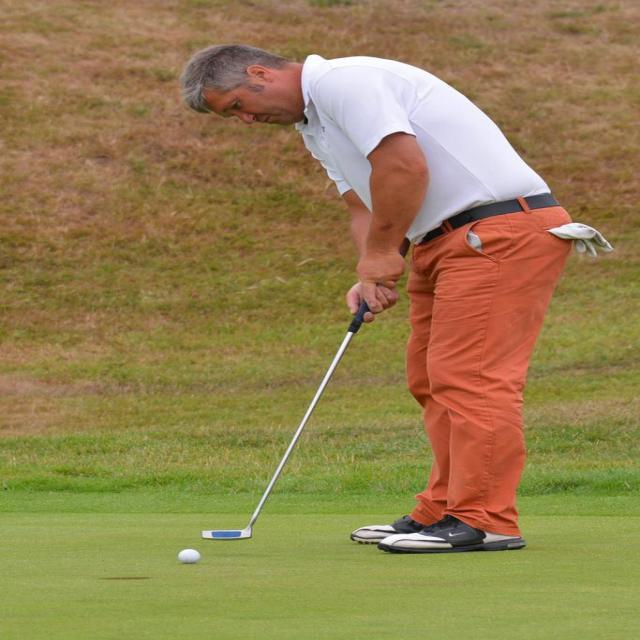ClubHead: (194, 516, 280, 552)
GolfBall: (163, 543, 214, 568)
